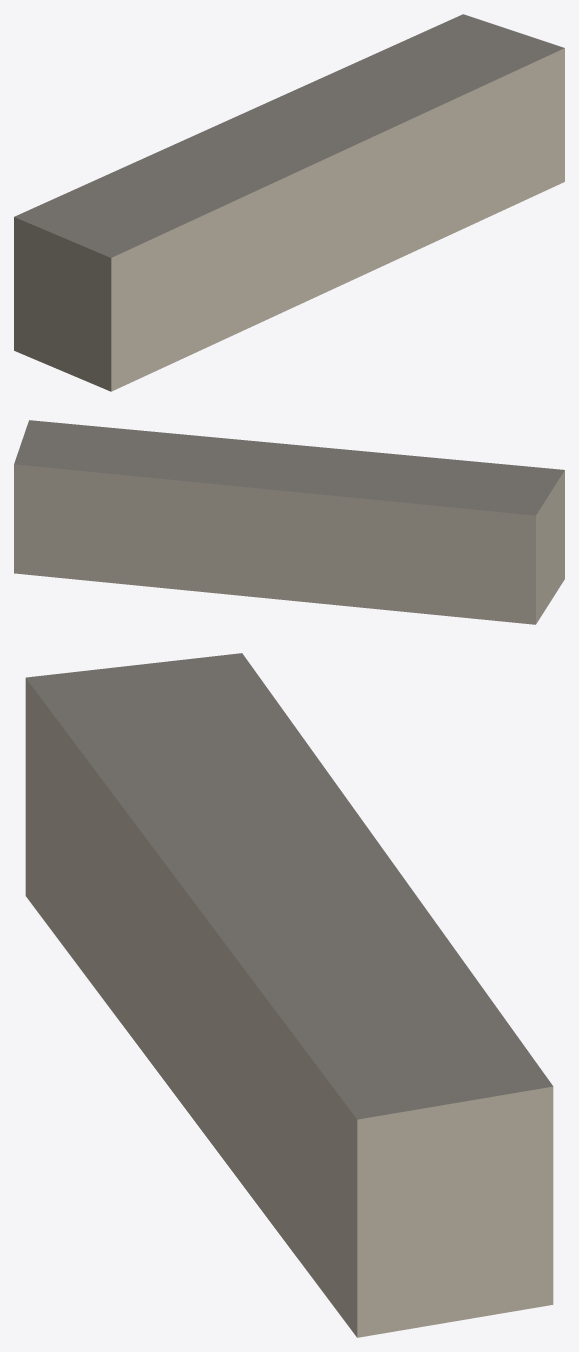
The picture shows the model from 3 angles, top to bottom: view 1: azimuth 30°, elevation 25°; view 2: azimuth 150°, elevation 25°; view 3: azimuth 270°, elevation 25°; orthographic projection. The views are drawn at different scales.
Parts seen in each view (by area): view 1: HP-w859488667; view 2: HP-w859488667; view 3: HP-w859488667.
Boxes of the visible parts, bbox=[...] form: HP-w859488667: bbox=[14, 14, 564, 391]; HP-w859488667: bbox=[14, 420, 564, 624]; HP-w859488667: bbox=[25, 653, 553, 1337].
Size of the model in its own units: 55.02 by 12 by 26.31.
